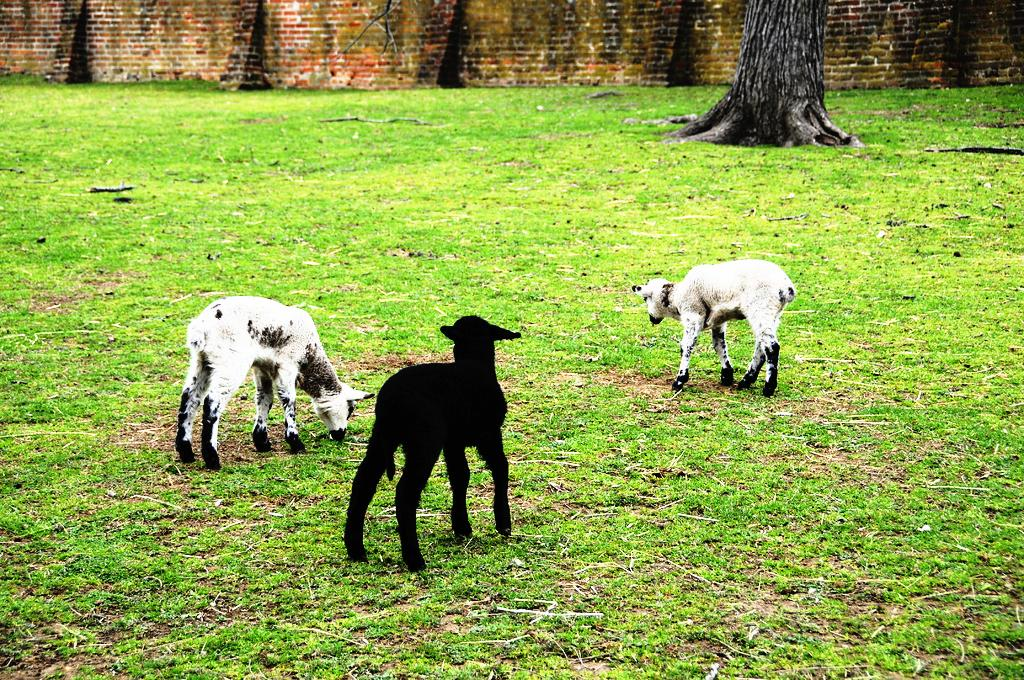Sheep: (340, 316, 520, 566), (170, 294, 372, 466), (634, 259, 796, 399)
